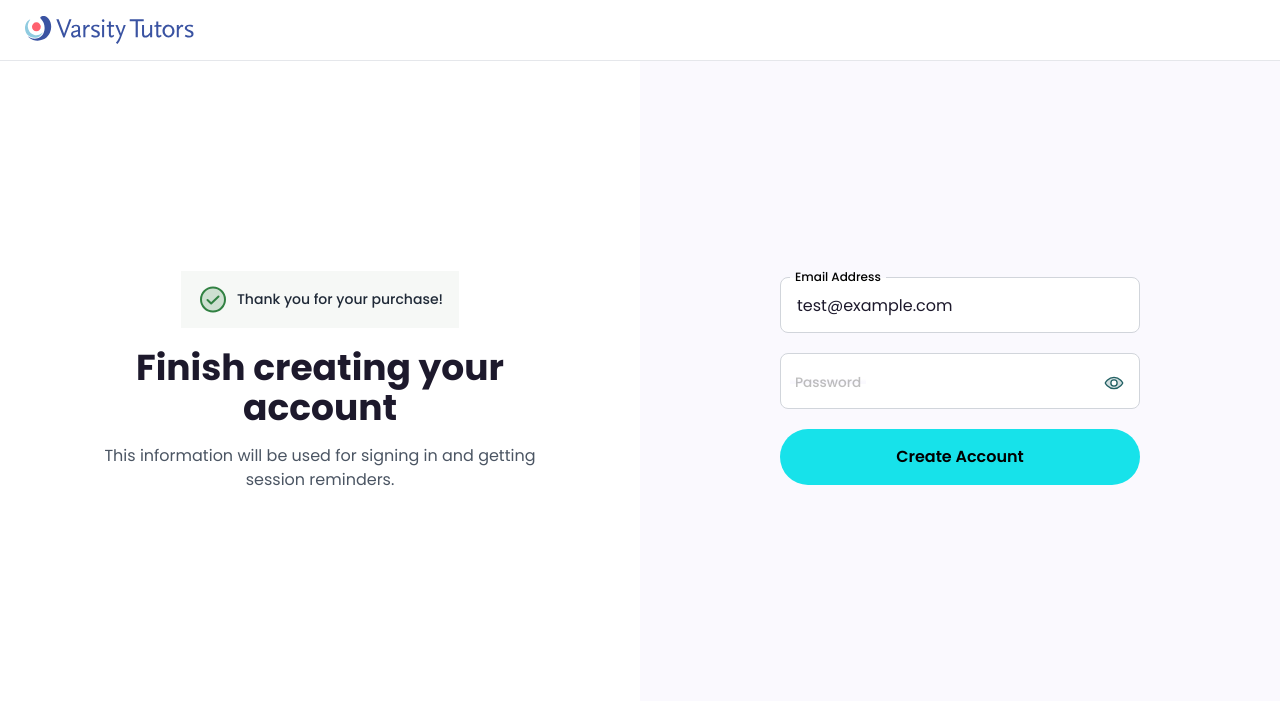
Test case: AccountCreationClient › shows loading state during submission
Type "Password123" into the password field. click: (960, 381)
box: [780,353,1140,409]
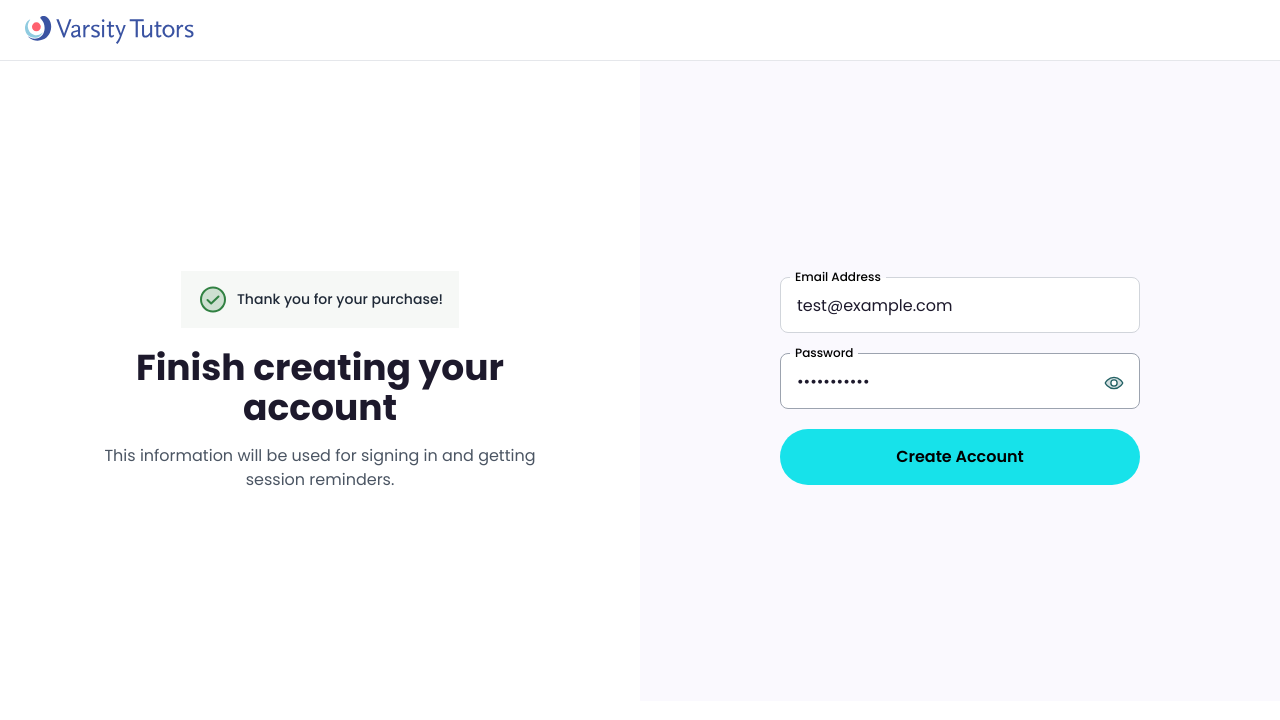
Click the button "Create Account". click: (960, 457)
box: [780,429,1140,485]
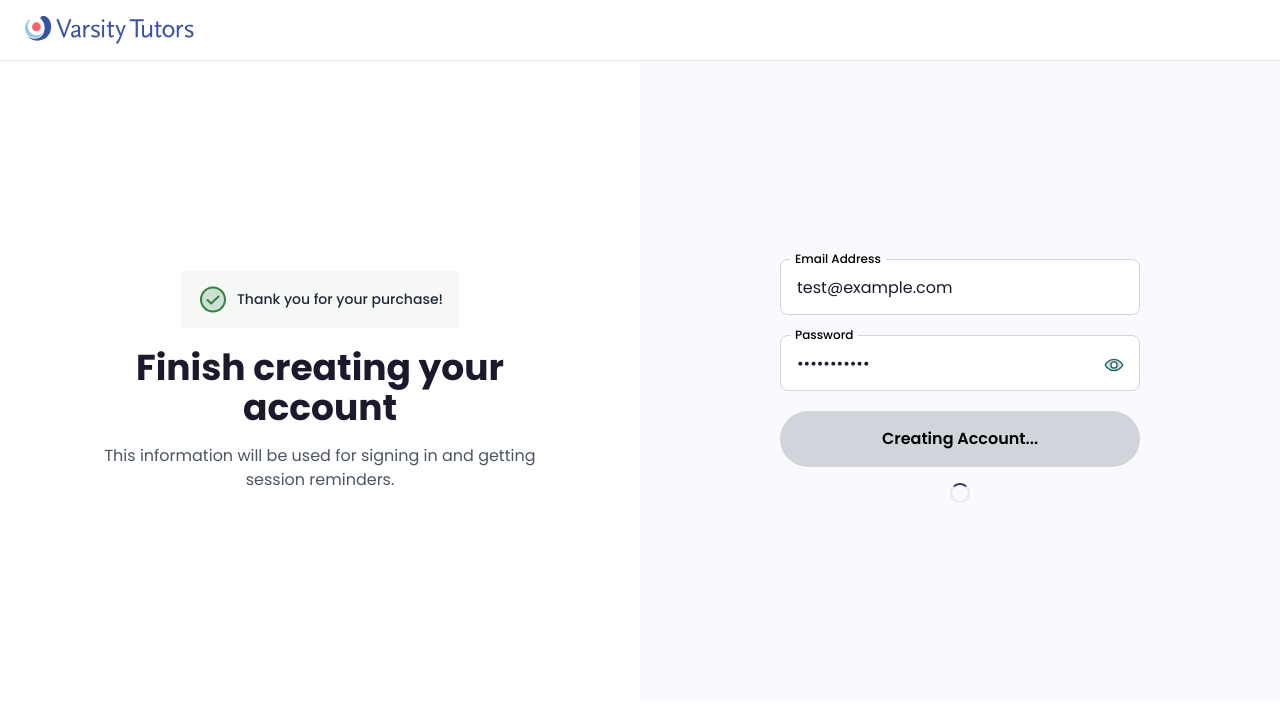
Expected: the button named "create account" is disabled, [780,411,1140,467]
